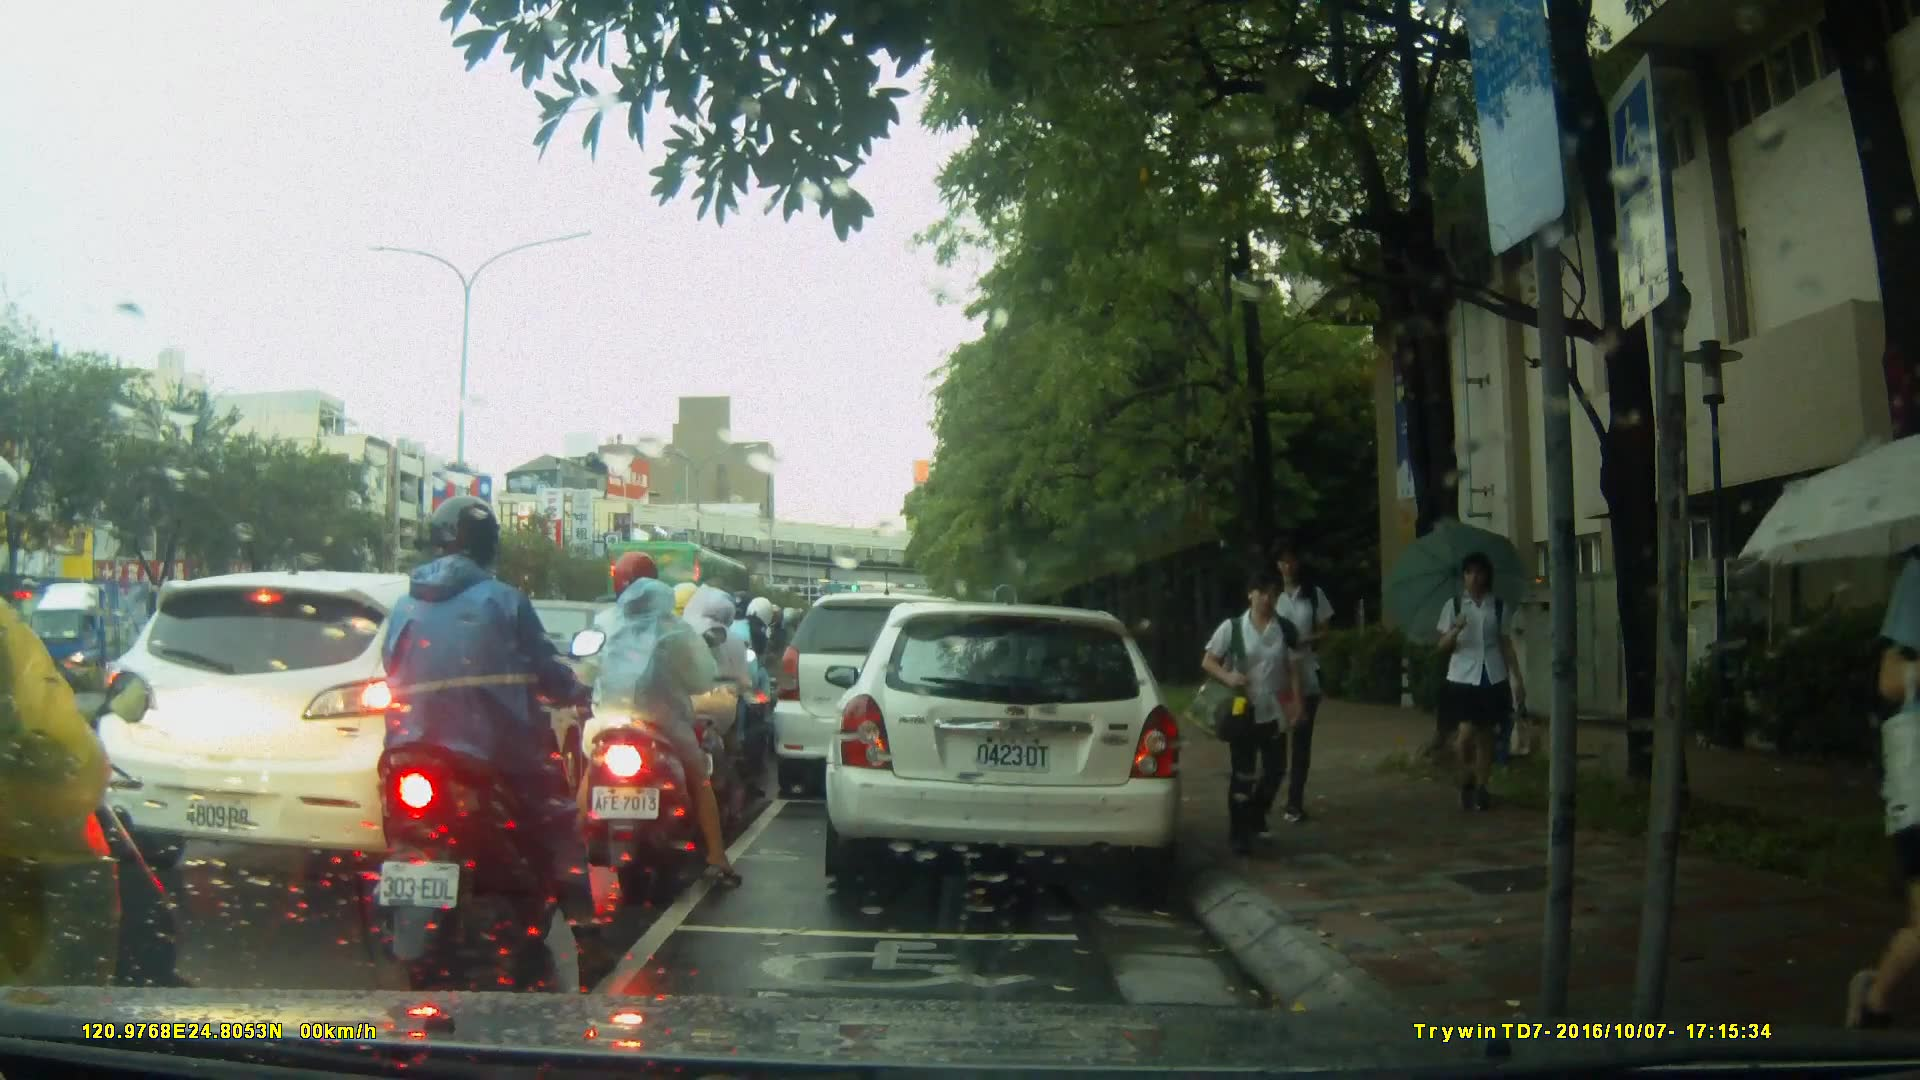pedestrian: (1859, 461, 1920, 1037), (1200, 566, 1319, 848), (1419, 546, 1523, 822), (1253, 538, 1344, 829)
rider: (377, 489, 611, 970), (1, 455, 181, 1080), (561, 554, 746, 904), (640, 578, 764, 823), (696, 594, 779, 776)
vehicle: (94, 569, 617, 883), (822, 604, 1187, 883), (774, 595, 995, 802), (20, 576, 199, 697)
